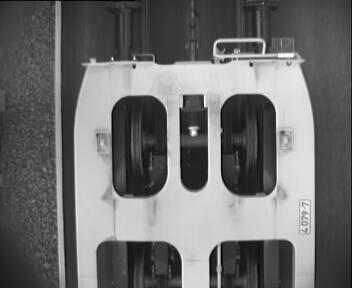twist_lock_2: (105, 90, 287, 206)
